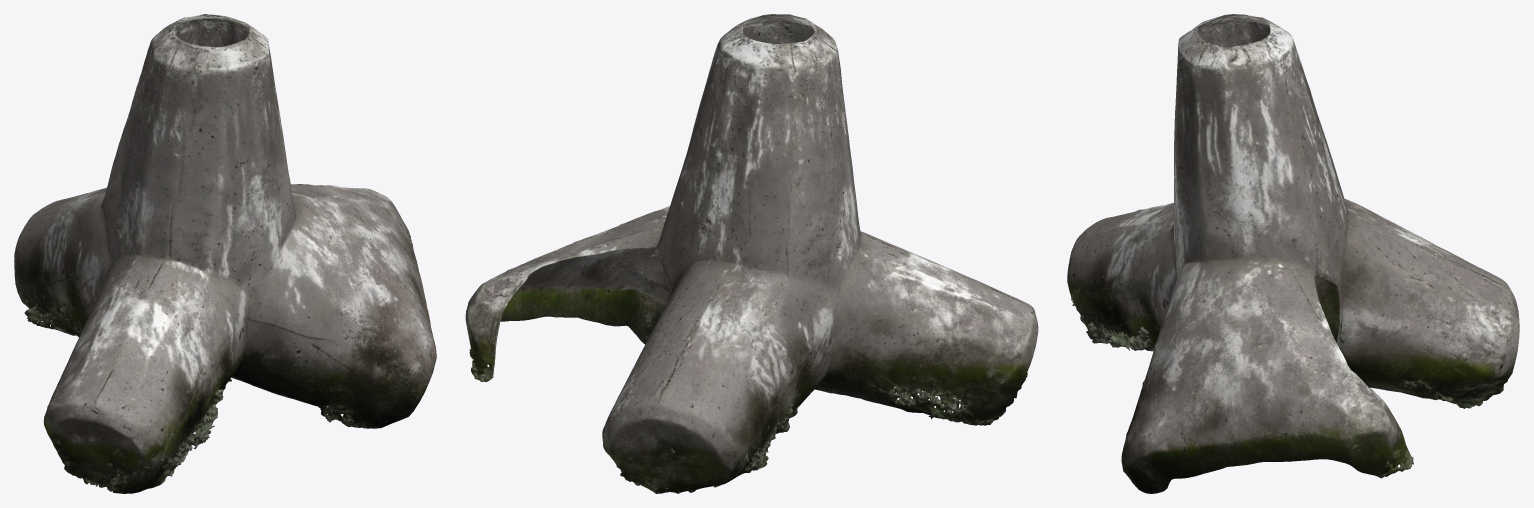
The model's file is tetrapod.0.glb.
3 views of the same model, side by side, from view 1: azimuth 30°, elevation 25°; view 2: azimuth 150°, elevation 25°; view 3: azimuth 270°, elevation 25° (orthographic).
Parts seen in each view (by area): view 1: geometry_0; view 2: geometry_0; view 3: geometry_0.
Boxes of the visible parts, x1=… form: geometry_0: x1=14, y1=14, x2=436, y2=493; geometry_0: x1=465, y1=14, x2=1038, y2=493; geometry_0: x1=1067, y1=14, x2=1519, y2=493.
Size of the model in its own units: 0.9857 by 0.8248 by 0.8568.
Materials: 1 (1 with a texture image).
